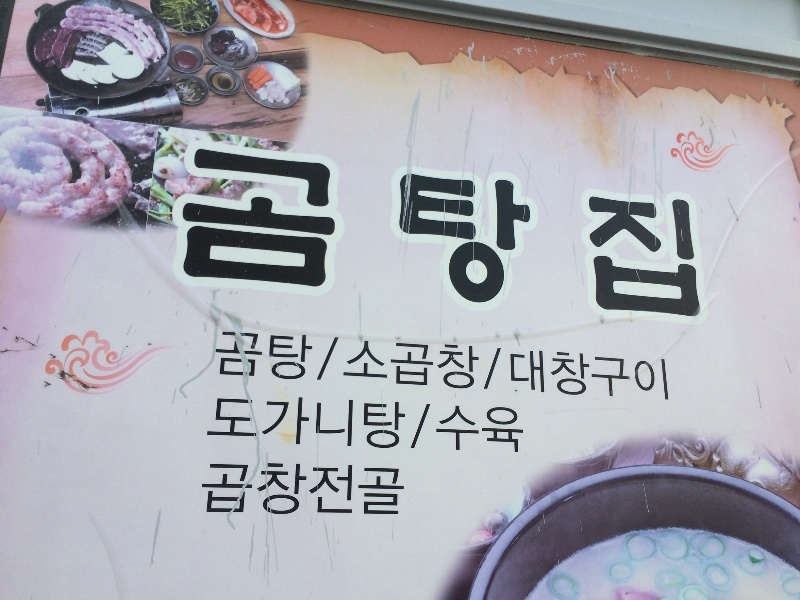text: (193, 142, 208, 321), (209, 142, 224, 321), (225, 142, 240, 321), (241, 142, 256, 321), (257, 142, 272, 321), (273, 142, 288, 321), (289, 142, 304, 321), (305, 142, 320, 321), (321, 142, 336, 321), (337, 142, 352, 321), (353, 142, 368, 321), (369, 142, 384, 321), (385, 142, 400, 321), (401, 142, 416, 321), (417, 142, 432, 321), (433, 142, 448, 321), (449, 142, 464, 321), (465, 142, 480, 321), (481, 142, 496, 321), (497, 142, 512, 321), (513, 142, 528, 321), (529, 142, 544, 321), (545, 142, 560, 321), (561, 142, 576, 321), (577, 142, 592, 321), (593, 142, 608, 321), (609, 142, 624, 321), (625, 142, 640, 321), (641, 142, 656, 321), (657, 142, 672, 321), (673, 142, 688, 321), (689, 142, 704, 321), (225, 395, 240, 452), (241, 395, 256, 452), (257, 395, 272, 452), (273, 395, 288, 452), (289, 395, 304, 452), (305, 395, 320, 452), (321, 395, 336, 452), (337, 395, 352, 452), (353, 395, 368, 452), (369, 395, 384, 452), (385, 395, 400, 452), (209, 462, 224, 518), (225, 462, 240, 518), (241, 462, 256, 518), (257, 462, 272, 518), (273, 462, 288, 518), (289, 462, 304, 518), (305, 462, 320, 518), (321, 462, 336, 518), (337, 462, 352, 518), (353, 462, 368, 518), (369, 462, 384, 518), (385, 462, 400, 518), (225, 330, 240, 385), (241, 330, 256, 385), (257, 330, 272, 385), (273, 330, 288, 385), (289, 330, 304, 385), (305, 330, 320, 385), (321, 330, 336, 385), (353, 340, 368, 394), (369, 340, 384, 394), (385, 340, 400, 394), (401, 340, 416, 394), (417, 340, 432, 394), (433, 340, 448, 394), (449, 340, 464, 394), (465, 340, 480, 394), (481, 340, 496, 394), (513, 349, 528, 402), (529, 349, 544, 402), (545, 349, 560, 402), (561, 349, 576, 402), (577, 349, 592, 402), (593, 349, 608, 402), (609, 349, 624, 402), (625, 349, 640, 402), (641, 349, 656, 402), (417, 403, 433, 452), (449, 405, 464, 456), (465, 405, 480, 456), (481, 405, 496, 456), (497, 405, 512, 456), (657, 349, 671, 402), (188, 142, 192, 321), (213, 395, 224, 452), (513, 405, 525, 456), (438, 405, 448, 456), (401, 462, 408, 518), (217, 330, 224, 385), (409, 403, 416, 452), (401, 395, 407, 452), (497, 340, 503, 394), (337, 330, 342, 385), (204, 462, 208, 518), (705, 142, 706, 321), (510, 349, 512, 402), (351, 340, 352, 394)
